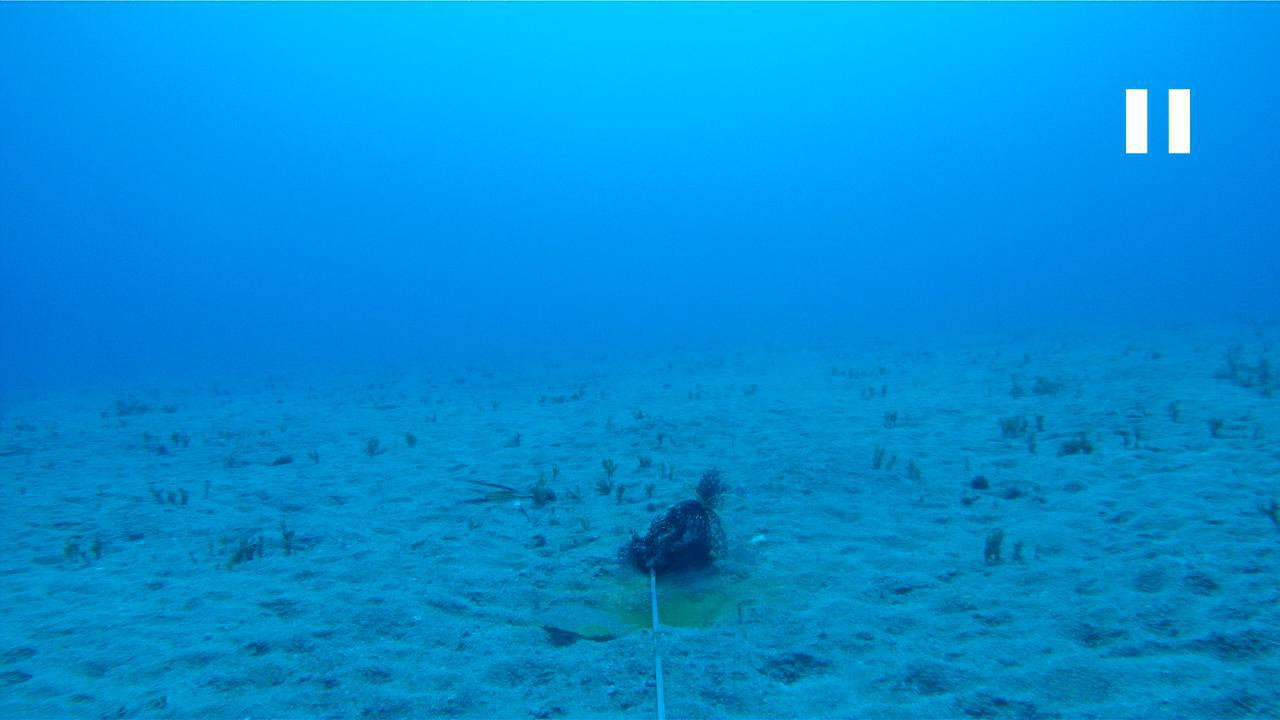bothus: (538, 598, 636, 637)
